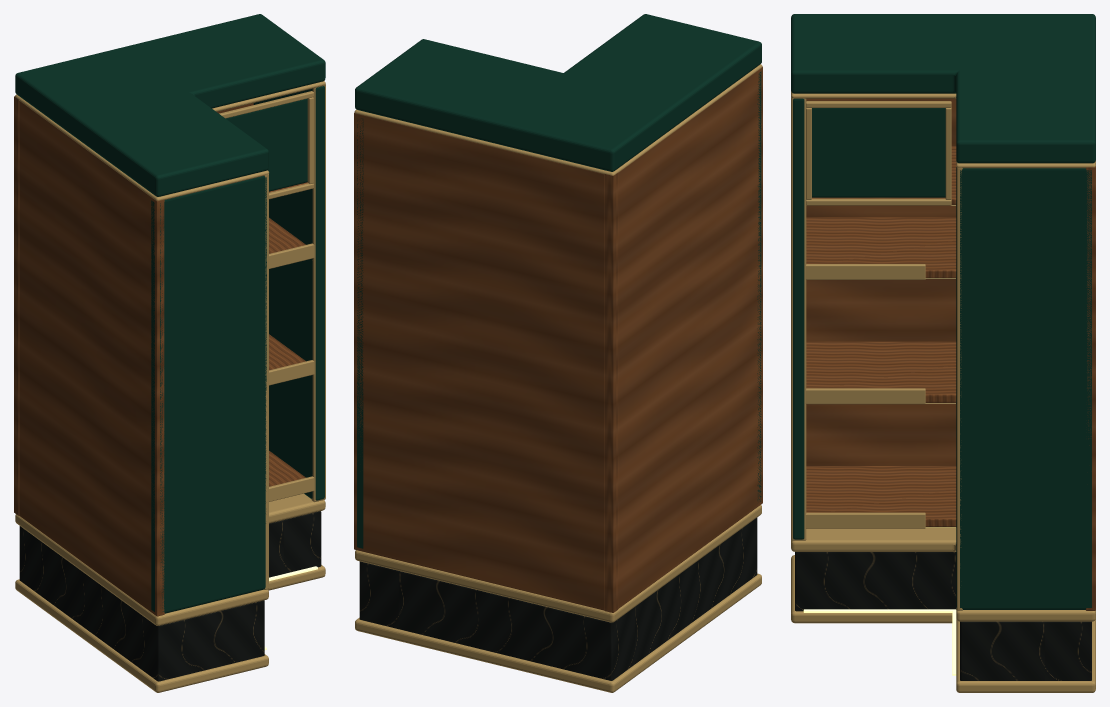
3 views of the same model, side by side, from view 1: azimuth 30°, elevation 25°; view 2: azimuth 150°, elevation 25°; view 3: azimuth 270°, elevation 25° (orthographic). The views are drawn at different scales.
Visible parts, largest first — view 1: cabinet_back_B, cabinet_end_B, cabinet_crown, cabinet_stone_base, cabinet_end_A, brand_header_front_panel, trim_base_top, trim_base_plinth, cabinet_corner_spine, trim_crown_lip, trim_front_A, trim_front_B (+8 smaller); view 2: cabinet_back_A, cabinet_back_B, cabinet_crown, cabinet_stone_base, cabinet_corner_spine, trim_base_plinth, trim_base_top, cabinet_end_A, trim_crown_lip, cabinet_end_B; view 3: cabinet_end_A, cabinet_crown, cabinet_back_B, cabinet_stone_base, brand_header_side_panel, shelf_2, shelf_3, shelf_1, trim_base_top, cabinet_end_B, trim_base_plinth, cabinet_back_A (+12 smaller).
Part boxes in pixels (x1,y1,x2,y2): cabinet_back_B: (19,101,164,616); cabinet_end_B: (151,176,266,613); cabinet_crown: (15,14,325,196); cabinet_stone_base: (19,511,321,681); cabinet_end_A: (253,86,324,500); brand_header_front_panel: (226,98,307,191); trim_base_top: (15,493,325,625); trim_base_plinth: (15,565,325,692); cabinet_corner_spine: (14,96,19,515); trim_crown_lip: (15,81,325,200); trim_front_A: (311,84,325,502); trim_front_B: (264,174,268,589); cabinet_back_A: (354,112,604,610); cabinet_back_B: (618,66,762,608); cabinet_crown: (355,14,761,171); cabinet_stone_base: (359,517,757,680); cabinet_corner_spine: (604,172,618,612); trim_base_plinth: (355,573,761,692); trim_base_top: (355,505,761,622); cabinet_end_A: (357,118,363,548); trim_crown_lip: (354,64,762,175); cabinet_end_B: (757,71,761,501); cabinet_end_A: (956,167,1091,609); cabinet_crown: (791,14,1095,163); cabinet_back_B: (806,98,956,465); cabinet_stone_base: (795,552,1091,680); brand_header_side_panel: (812,108,945,197); shelf_2: (806,341,956,402); shelf_3: (806,217,956,278); shelf_1: (806,466,956,527); trim_base_top: (791,527,1095,621); cabinet_end_B: (793,98,804,539); trim_base_plinth: (791,555,1095,692); cabinet_back_A: (1085,166,1095,610).
Size of the model in its own units: 1.2 by 2.4 by 1.2.
Materials: 6 (3 with a texture image).
